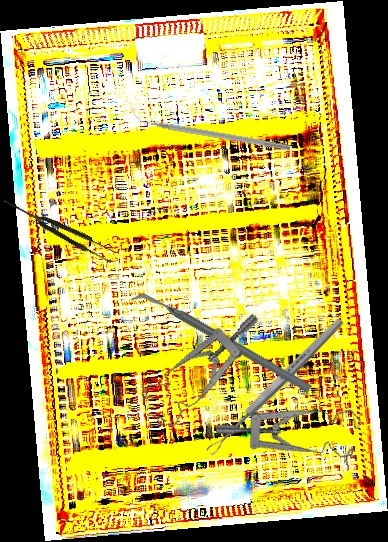Chopper: (129, 242, 314, 444), (129, 108, 293, 151)
Speculum: (213, 361, 370, 490), (127, 311, 284, 434)
Surgical Spoon: (204, 316, 346, 457)
Tissue Forceps: (0, 192, 118, 266)
